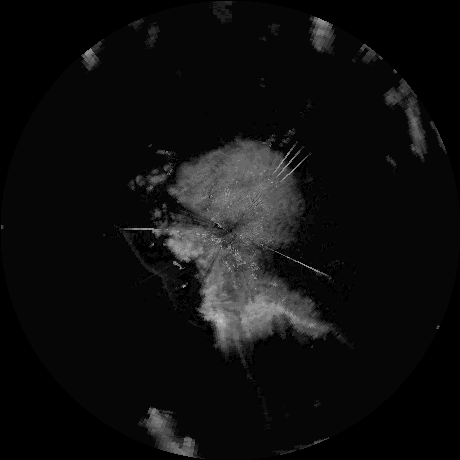frontgust: (124, 234, 171, 296)
